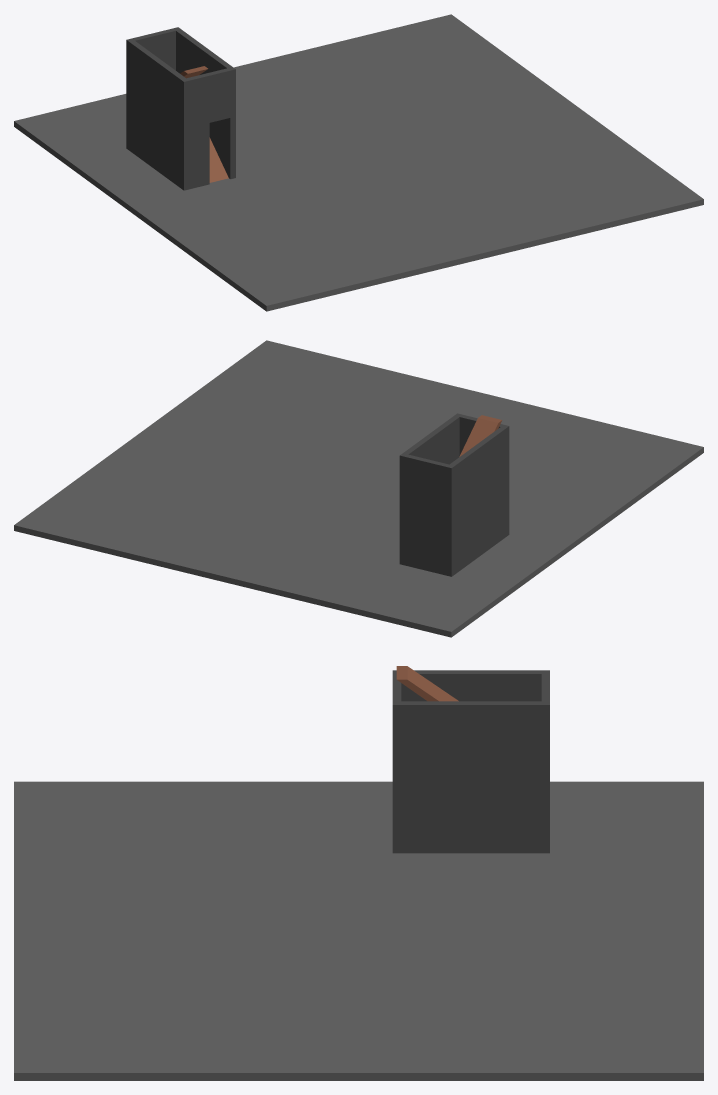
File: StairsEntrance.glb
3 views of the same model, one above another, from view 1: azimuth 30°, elevation 25°; view 2: azimuth 150°, elevation 25°; view 3: azimuth 270°, elevation 25° (orthographic). The views are drawn at different scales.
Parts seen in each view (by area): view 1: EntranceStairs-col; view 2: EntranceStairs-col; view 3: EntranceStairs-col.
Boxes of the visible parts, bbox=[...] form: EntranceStairs-col: bbox=[14, 14, 703, 311]; EntranceStairs-col: bbox=[14, 340, 703, 637]; EntranceStairs-col: bbox=[14, 666, 703, 1080].
Size of the model in its own units: 64 by 16.81 by 64.
Materials: 3 (3 with a texture image).
